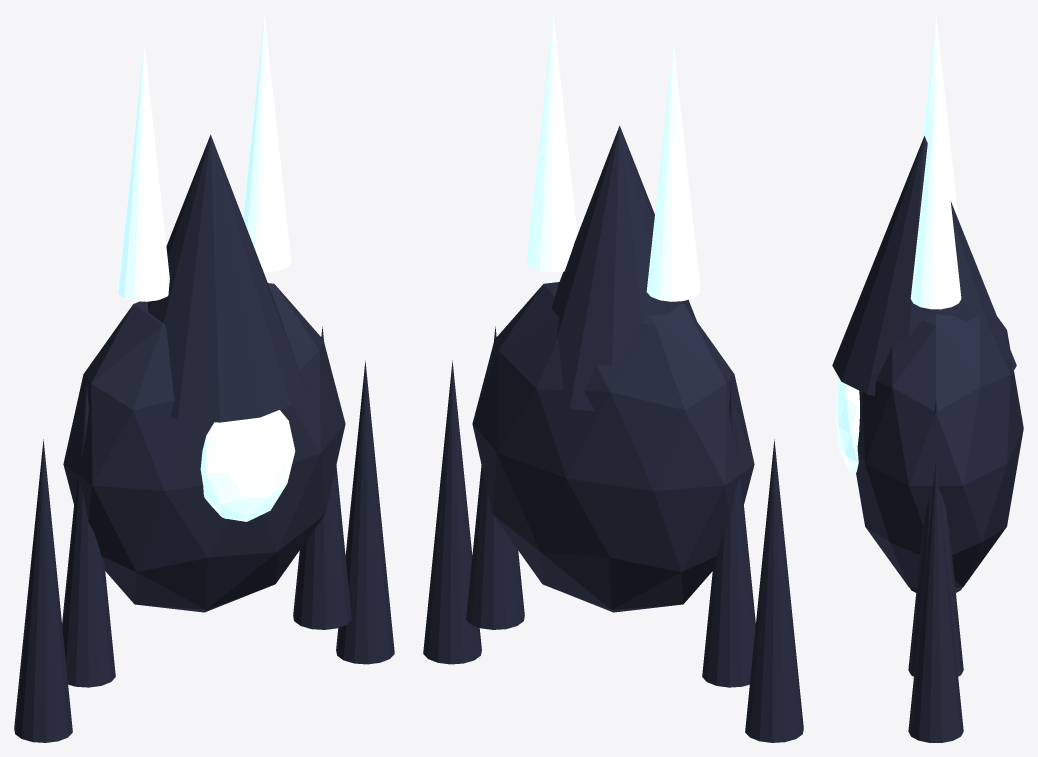
File: rift-creature-2-lod0.glb
The picture shows the model from 3 angles, left to right: view 1: azimuth 30°, elevation 25°; view 2: azimuth 150°, elevation 25°; view 3: azimuth 270°, elevation 25°; orthographic projection. The views are drawn at different scales.
Visible parts, largest first — view 1: Body, Head, Claw.-1.1, Claw.1.1, Core, Claw.-1.0, Horn.-1, Horn.1, Claw.1.0; view 2: Body, Head, Claw.-1.1, Claw.1.1, Claw.-1.0, Horn.-1, Horn.1, Claw.1.0; view 3: Body, Head, Claw.1.1, Horn.1, Claw.1.0, Core, Horn.-1.
Part boxes in pixels (<box>): Body: <box>63,283,345,612</box>; Head: <box>148,134,305,422</box>; Claw.-1.1: <box>14,439,72,742</box>; Claw.1.1: <box>336,360,394,664</box>; Core: <box>200,410,295,521</box>; Claw.-1.0: <box>62,383,115,687</box>; Horn.-1: <box>117,44,169,301</box>; Horn.1: <box>242,15,291,272</box>; Claw.1.0: <box>293,326,351,629</box>; Body: <box>472,282,754,612</box>; Head: <box>551,125,696,411</box>; Claw.-1.1: <box>745,439,803,742</box>; Claw.1.1: <box>423,360,481,664</box>; Claw.-1.0: <box>702,383,755,687</box>; Horn.-1: <box>646,44,700,301</box>; Horn.1: <box>526,15,577,272</box>; Claw.1.0: <box>466,326,524,629</box>; Body: <box>856,313,1023,587</box>; Head: <box>832,136,1016,395</box>; Claw.1.1: <box>908,461,963,742</box>; Horn.1: <box>910,69,961,309</box>; Claw.1.0: <box>908,399,963,676</box>; Core: <box>834,378,859,472</box>; Horn.-1: <box>922,15,958,220</box>.
Size of the model in its own units: 1.73 by 2.95 by 0.83.
